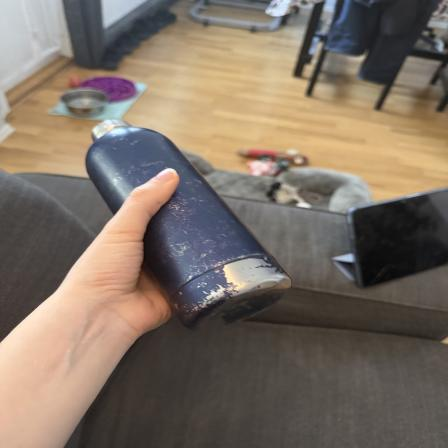blue_bottle: (83, 117, 292, 330)
